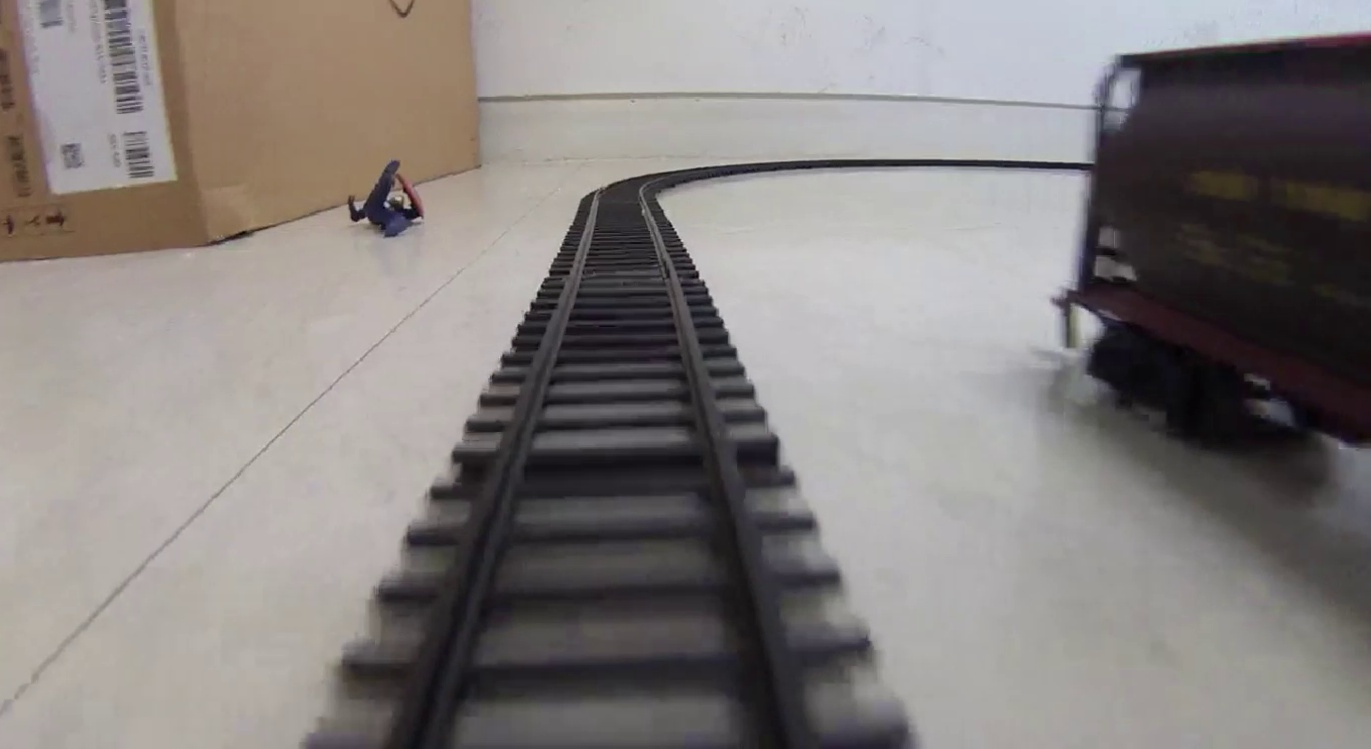people: (347, 158, 424, 239)
